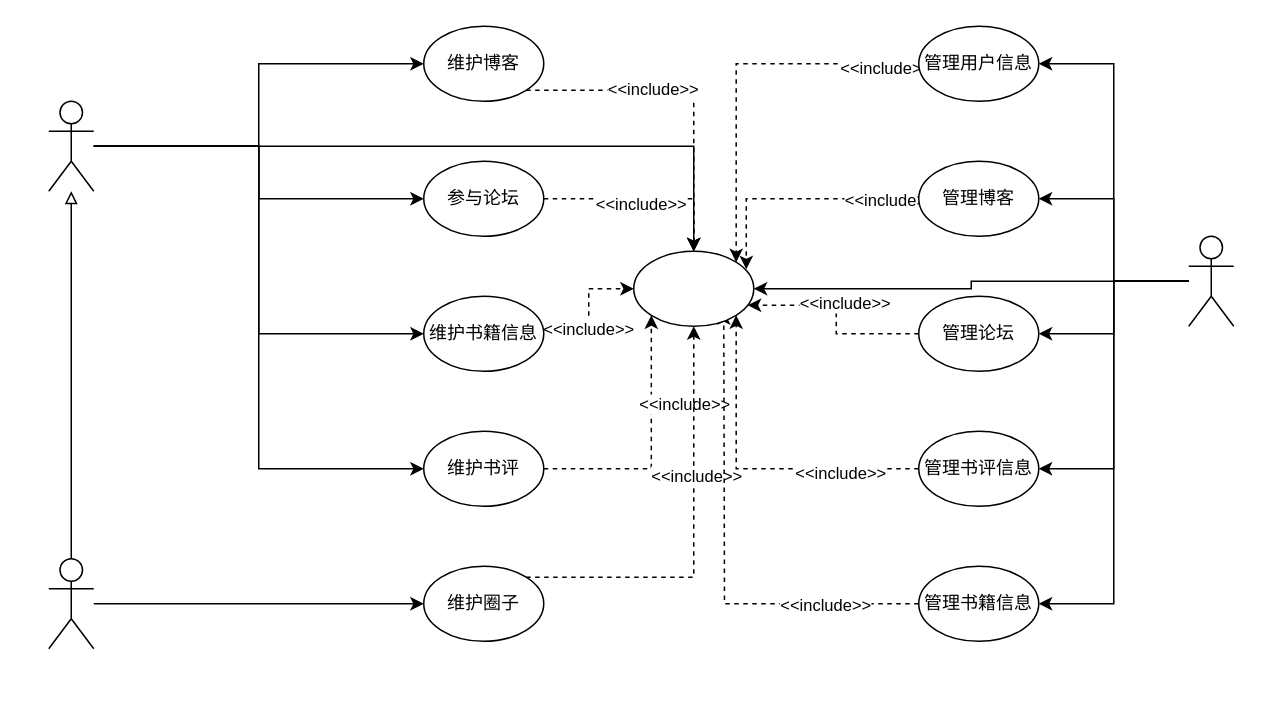
Some shapes in this 1263 by 707 pixel diagram are drawn without their labels. Each missing label, with the centre of its shape:
"导师" goes at (70,603).
"已注册用户" goes at (70,145).
"登录注册" goes at (693,288).
"管理员" goes at (1210,280).
